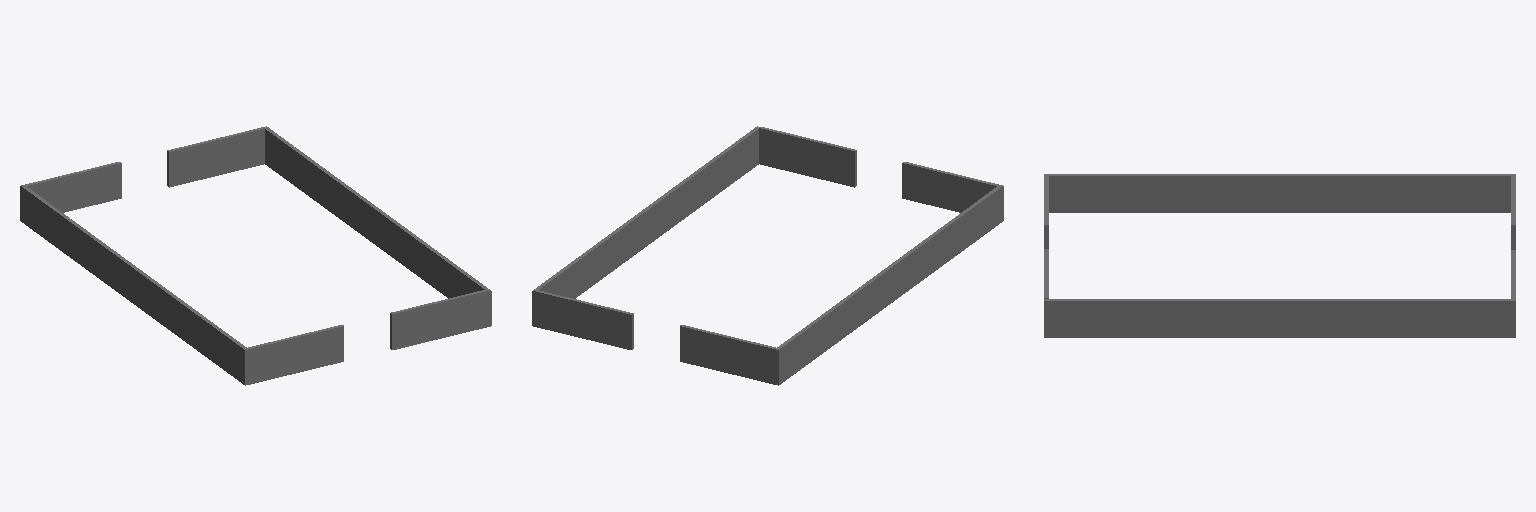
robot.urdf — object:
<?xml version="1.0"?>
<robot name="object">
  <link name="object">
    <visual>
      <origin xyz="0 0 0"/>
      <geometry>
        <mesh
          filename="../mesh/soccer_bound.stl" />
      </geometry>
      <material name="mat">
        <color rgba="0.5 0.5 0.5 1"/>
      </material>
    </visual>

    <collision>
      <origin xyz="0 0 0"/>
      <geometry>
        <mesh
          filename="../mesh/soccer_bound.stl" />
      </geometry>
    </collision>
  </link>
</robot>

--- Render facts (derived) ---
Views: 3 orthographic renders of the robot side by side, from view 1: azimuth 30°, elevation 25°; view 2: azimuth 150°, elevation 25°; view 3: azimuth 270°, elevation 25°.
Robot: object — 1 links, 0 joints (none); root link object; default pose: every joint at zero.
Links seen in each view (by area): view 1: object; view 2: object; view 3: object.
Boxes of the visible links, bbox=[...] form: object: bbox=[20, 126, 491, 385]; object: bbox=[532, 126, 1003, 385]; object: bbox=[1044, 174, 1515, 337].
Size in the robot's own frame: 20.62 by 32.6 by 2.9 metres.
Meshes: 1 distinct files referenced, 1 mesh visuals loaded (1 binary STL).